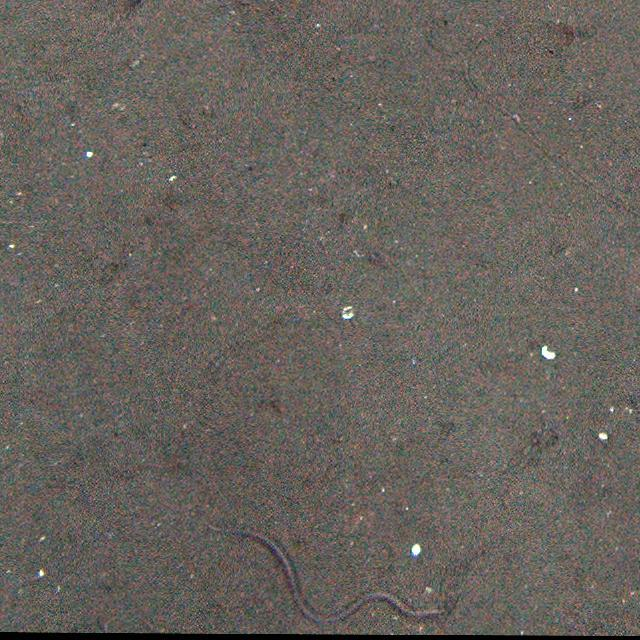eel: (204, 520, 449, 627)
